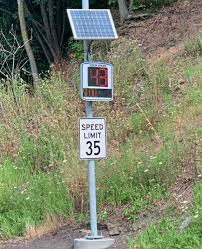speedLimit35: (77, 114, 109, 161)
